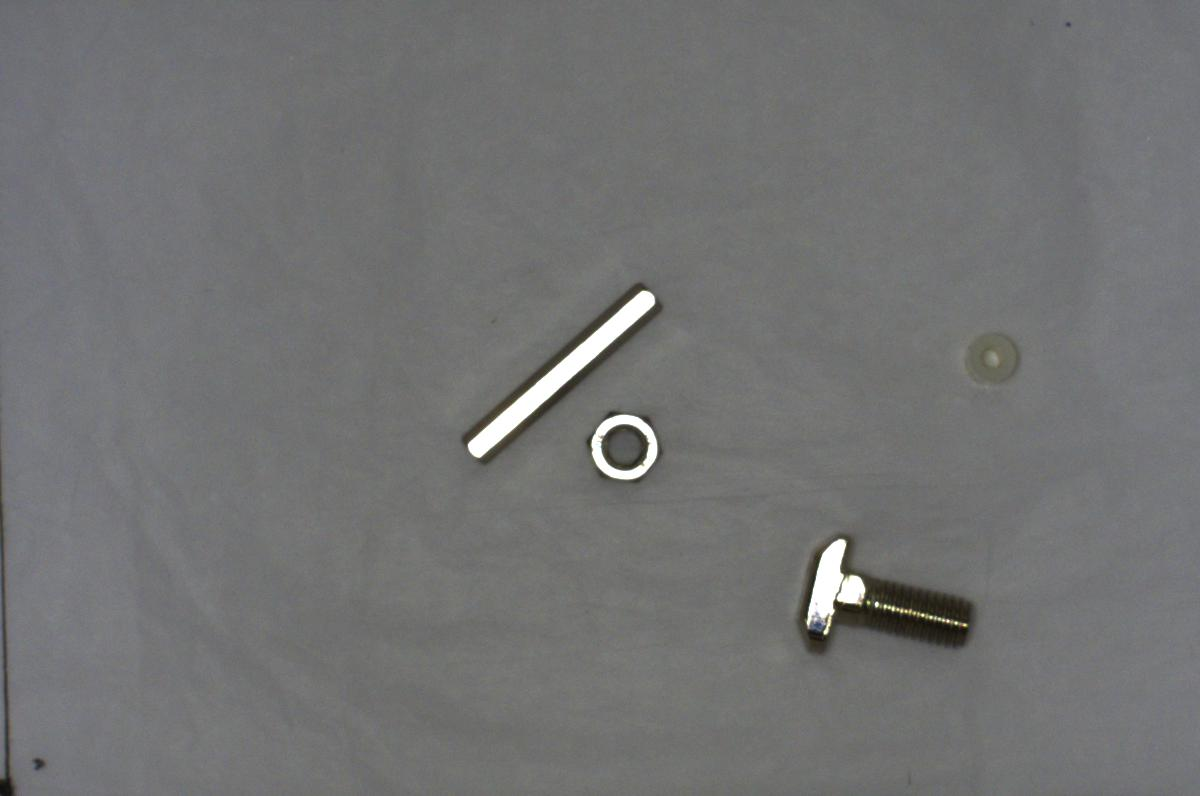Double hexagonal column: (427, 273, 674, 468)
Hexagon nut: (579, 406, 672, 486)
Plastic cushion pillar: (950, 315, 1039, 398)
T-shaped screw: (779, 522, 995, 666)
